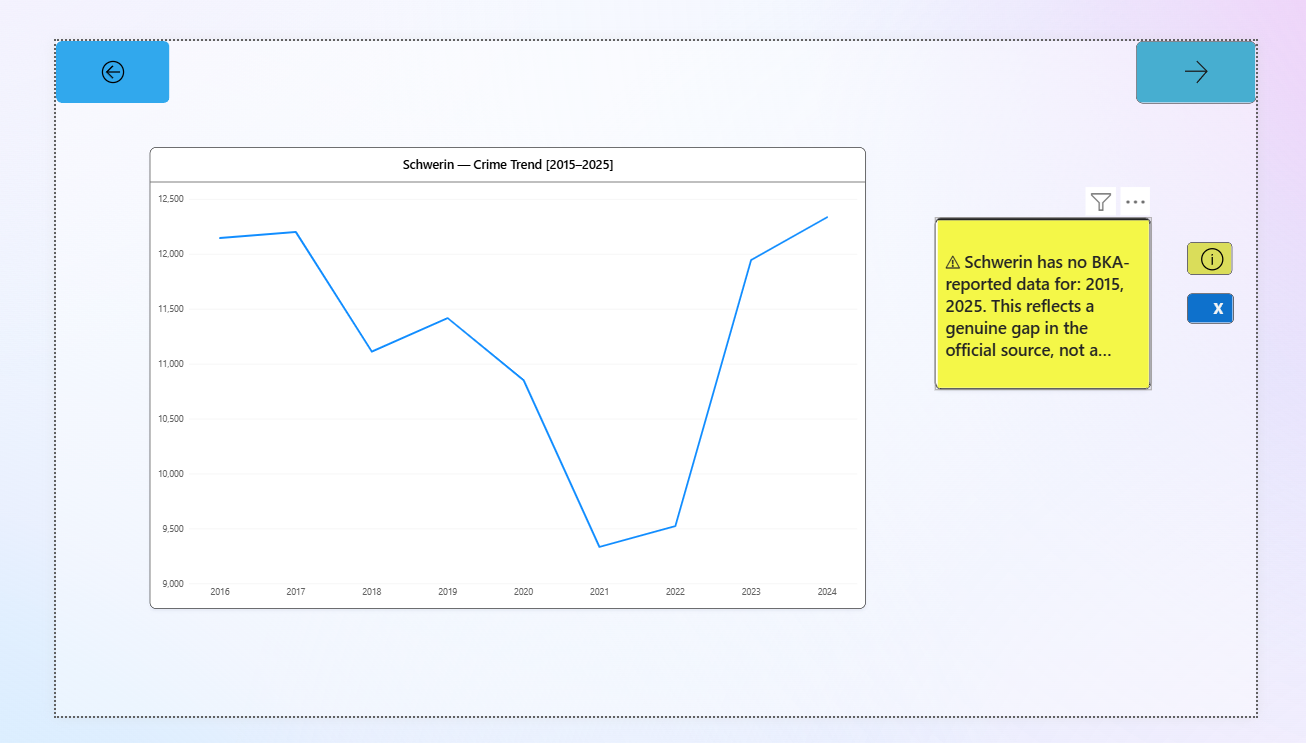

This screenshot's page, from the dashboard's own definition file:
{"tool":"powerbi","page":{"name":"City & Yearwise Breakdown","canvas":[1920,1080],"ordinal":2},"visuals":[{"type":"actionButton","box":[0,0,181.8,99.2],"z":0},{"type":"lineChart","fields":{"Category":["Dim_Year.Year"],"Y":["Sum(Fact_Crime.HZ)"]},"box":[150,170,1145.5,738.3],"z":1000},{"type":"actionButton","box":[1727.5,0,192.5,100],"z":2000},{"type":"cardVisual","fields":{"Data":["Fact_Crime.MissingYearsMessage"]},"box":[1406,282,346,276],"z":3000},{"type":"actionButton","box":[1810,322,72,52],"z":4000},{"type":"actionButton","box":[1810,404,74,48],"z":5000}]}

Visuals, with their boxes in screenshot pixels (x1, y1, x2, y2), scaled from the page's 1920x1080 canvas onto the 1306x743 screenshot:
actionButton: 0 0 124 68
lineChart - Dim_Year.Year x Sum(Fact_Crime.HZ): 102 117 881 625
actionButton: 1175 0 1305 69
cardVisual - Fact_Crime.MissingYearsMessage: 956 194 1192 384
actionButton: 1231 222 1280 257
actionButton: 1231 278 1282 311
